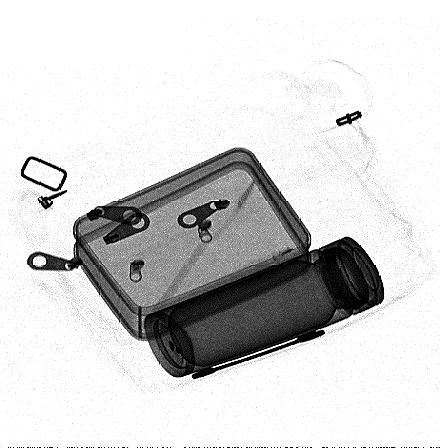Wrench: (190, 329, 327, 381)
